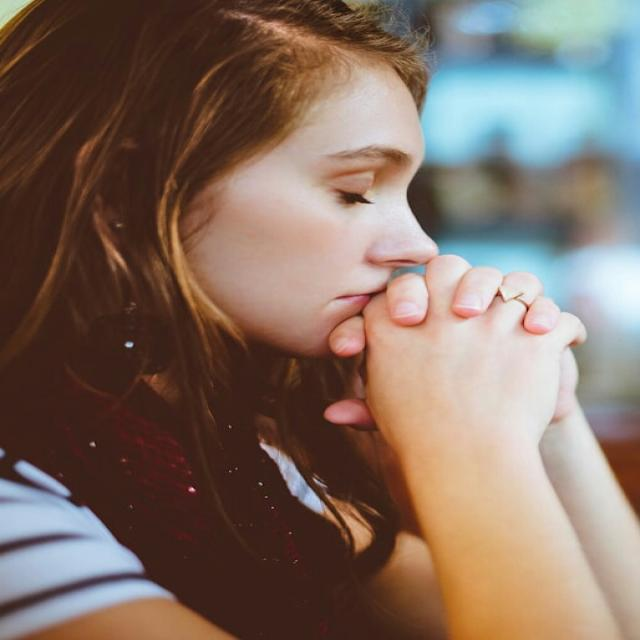front: (219, 94, 453, 343)
